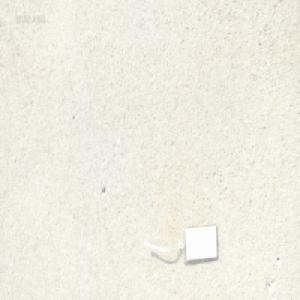LuggageTag: (141, 222, 218, 265)
